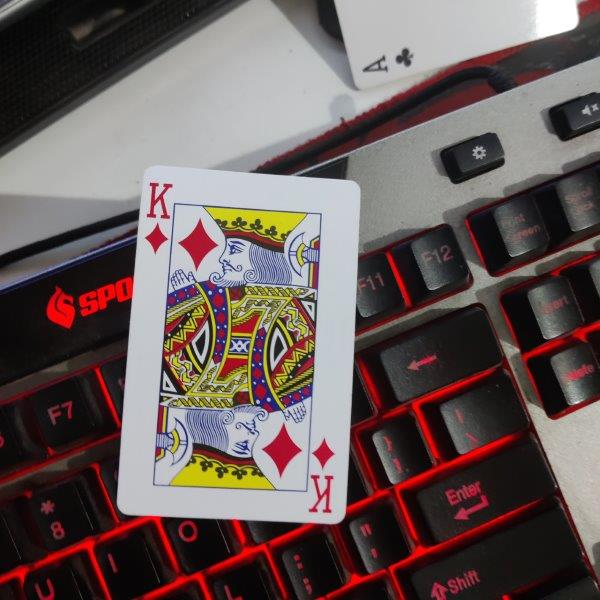King of Diamonds: (115, 165, 361, 525)
